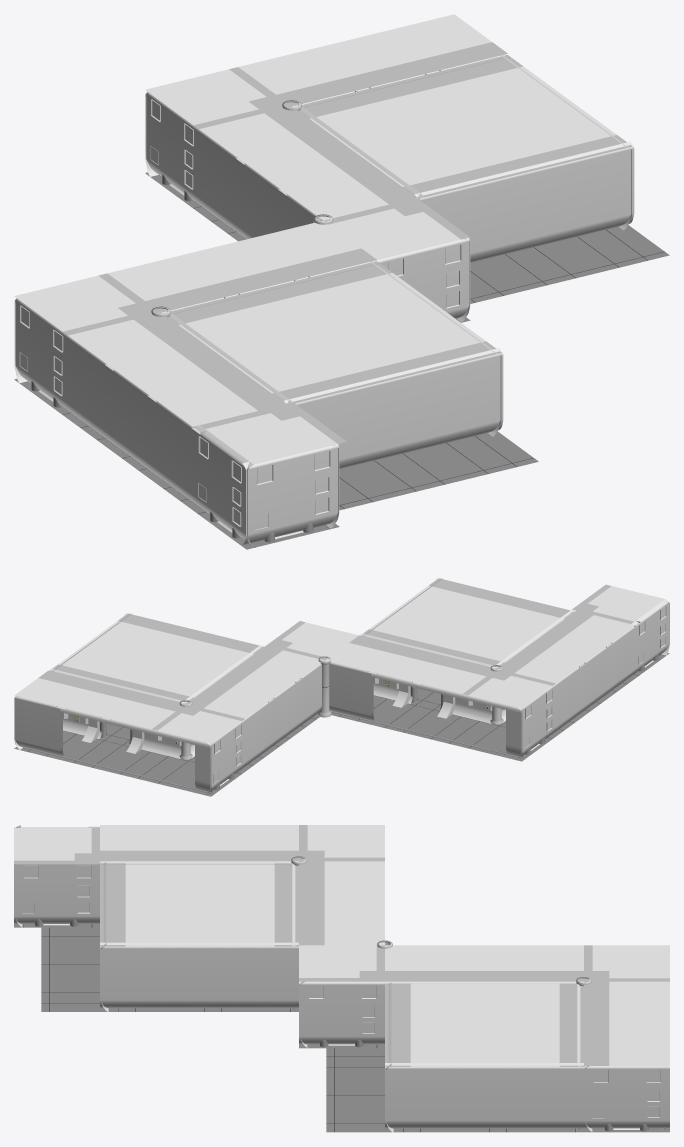
File: SW_ship_LEvel_1_meshes.fbx
The picture shows the model from 3 angles, top to bottom: view 1: azimuth 30°, elevation 25°; view 2: azimuth 150°, elevation 25°; view 3: azimuth 270°, elevation 25°; orthographic projection. The views are drawn at different scales.
Visible parts, largest first — view 1: SW_Ship_bar12, pCube115, pCube111, pCube112, SW_CorridorT28, SW_CorridorT27, SW_Corner_Ceiling, SW_Corner_Ceiling1, sw_SHIP_dOOR8, sw_SHIP_dOOR2, sw_SHIP_dOOR1, pCube69 (+12 smaller); view 2: SW_Ship_bar12, pCube115, pCube111, pCube112, SW_CorridorT9, SW_Corner_Ceiling, SW_Corner_Ceiling1, sw_SHIP_dOOR8, sw_SHIP_dOOR1, pCube69, SW_ShipCeling, pCube40 (+17 smaller); view 3: SW_Ship_bar12, pCube115, pCube111, pCube112, sw_SHIP_dOOR3, sw_SHIP_dOOR, SW_CorridorT24, SW_CorridorT23, SW_CorridorT25, SW_Corner_Ceiling, SW_Corner_Ceiling1, pCube40 (+8 smaller).
Boxes of the visible parts, <box> form: SW_Ship_bar12: <box>14,220,538,549</box>; pCube115: <box>163,261,501,403</box>; pCube111: <box>353,99,632,198</box>; pCube112: <box>293,55,567,150</box>; SW_CorridorT28: <box>486,159,562,258</box>; SW_CorridorT27: <box>558,141,634,241</box>; SW_Corner_Ceiling: <box>145,67,291,128</box>; SW_Corner_Ceiling1: <box>324,198,469,259</box>; sw_SHIP_dOOR8: <box>193,425,254,546</box>; sw_SHIP_dOOR2: <box>375,238,470,318</box>; sw_SHIP_dOOR1: <box>146,92,204,208</box>; pCube69: <box>240,137,374,189</box>; SW_Ship_bar12: <box>325,578,669,761</box>; pCube115: <box>360,578,574,668</box>; pCube111: <box>86,613,263,676</box>; pCube112: <box>49,644,222,703</box>; SW_CorridorT9: <box>14,696,62,757</box>; SW_Corner_Ceiling: <box>152,704,244,743</box>; SW_Corner_Ceiling1: <box>266,621,358,660</box>; sw_SHIP_dOOR8: <box>631,599,668,675</box>; sw_SHIP_dOOR1: <box>206,720,244,794</box>; pCube69: <box>212,665,297,699</box>; SW_ShipCeling: <box>14,670,93,706</box>; pCube40: <box>60,682,139,717</box>; SW_Ship_bar12: <box>14,825,384,1012</box>; pCube115: <box>100,863,298,946</box>; pCube111: <box>385,983,488,1066</box>; pCube112: <box>489,983,584,1066</box>; sw_SHIP_dOOR3: <box>299,981,384,1047</box>; sw_SHIP_dOOR: <box>584,1066,669,1131</box>; SW_CorridorT24: <box>451,1063,517,1128</box>; SW_CorridorT23: <box>517,1063,583,1128</box>; SW_CorridorT25: <box>385,1063,451,1128</box>; SW_Corner_Ceiling: <box>584,945,669,981</box>; SW_Corner_Ceiling1: <box>299,945,384,981</box>; pCube40: <box>584,1009,669,1037</box>.
Size of the model in its own units: 43.09 by 5.78 by 49.45.
